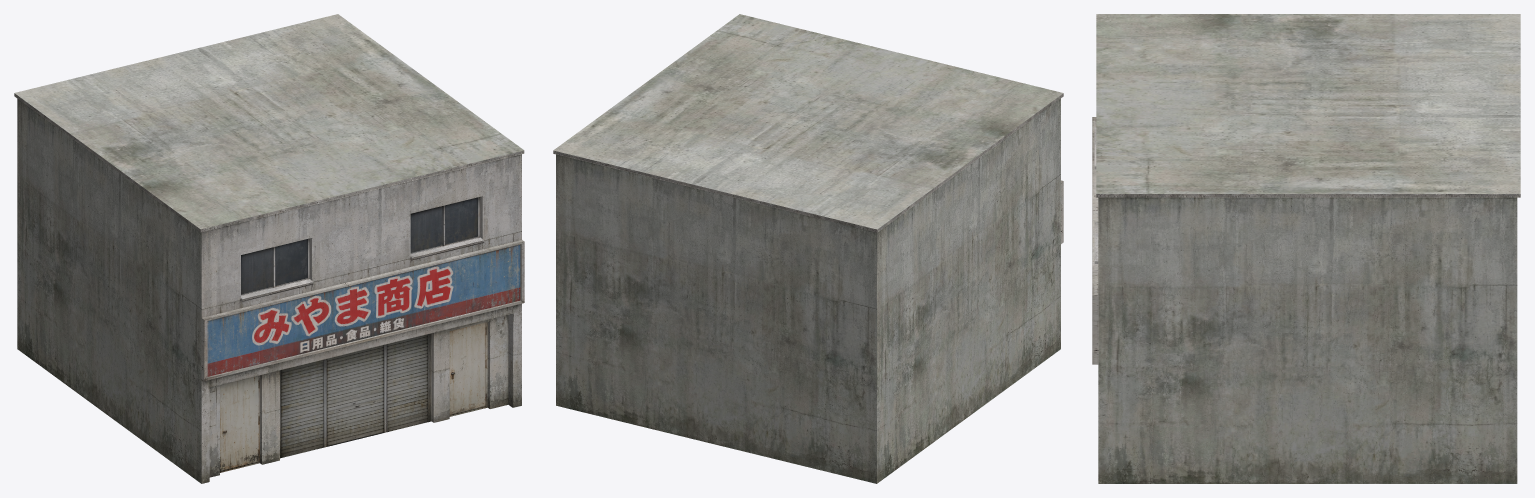
The model's file is tokyo-shop-c.glb.
3 renders of one model, left to right at view 1: azimuth 30°, elevation 25°; view 2: azimuth 150°, elevation 25°; view 3: azimuth 270°, elevation 25°, orthographic. The views are drawn at different scales.
Parts seen in each view (by area): view 1: 1_1 back_0, 1_1_0, 1. sign; view 2: 1_1 back_0, 1_1_0; view 3: 1_1 back_0, 1_1_0, 1. sign.
Boxes of the visible parts, x1=… form: 1_1 back_0: x1=14, y1=14, x2=523, y2=483; 1_1_0: x1=14, y1=93, x2=524, y2=483; 1. sign: x1=201, y1=240, x2=524, y2=380; 1_1 back_0: x1=553, y1=14, x2=1063, y2=483; 1_1_0: x1=553, y1=93, x2=1063, y2=232; 1_1 back_0: x1=1096, y1=14, x2=1520, y2=483; 1_1_0: x1=1094, y1=127, x2=1520, y2=263; 1. sign: x1=1092, y1=117, x2=1098, y2=364.
Bounding box in the file's own units: 8.16 × 6.16 × 8.21.
2 materials, 2 textured.
